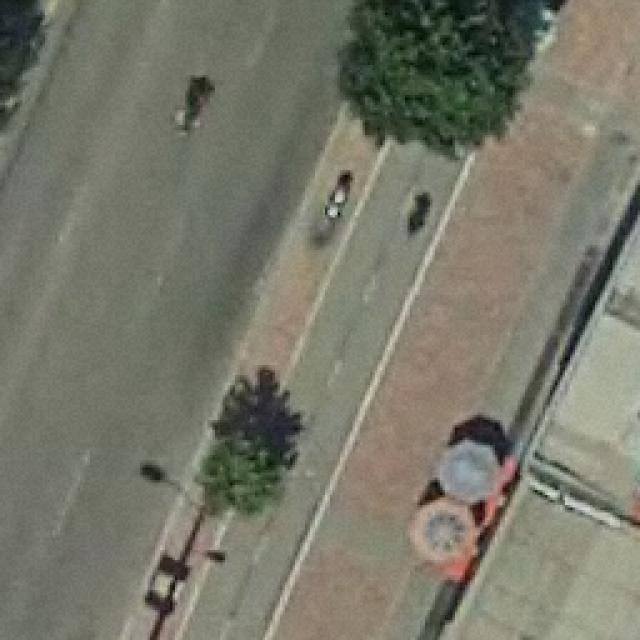vendedor_ambulante: (403, 490, 481, 570), (434, 432, 505, 504)
